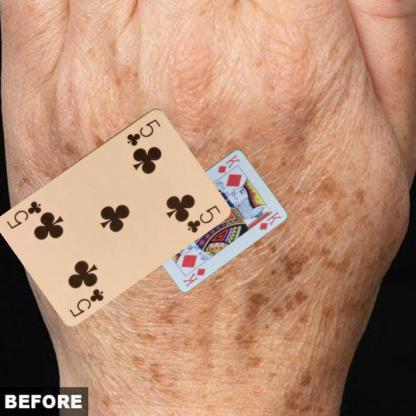5c: (66, 286, 106, 318), (124, 115, 162, 148)
Kd: (214, 151, 242, 174), (181, 265, 207, 288)
